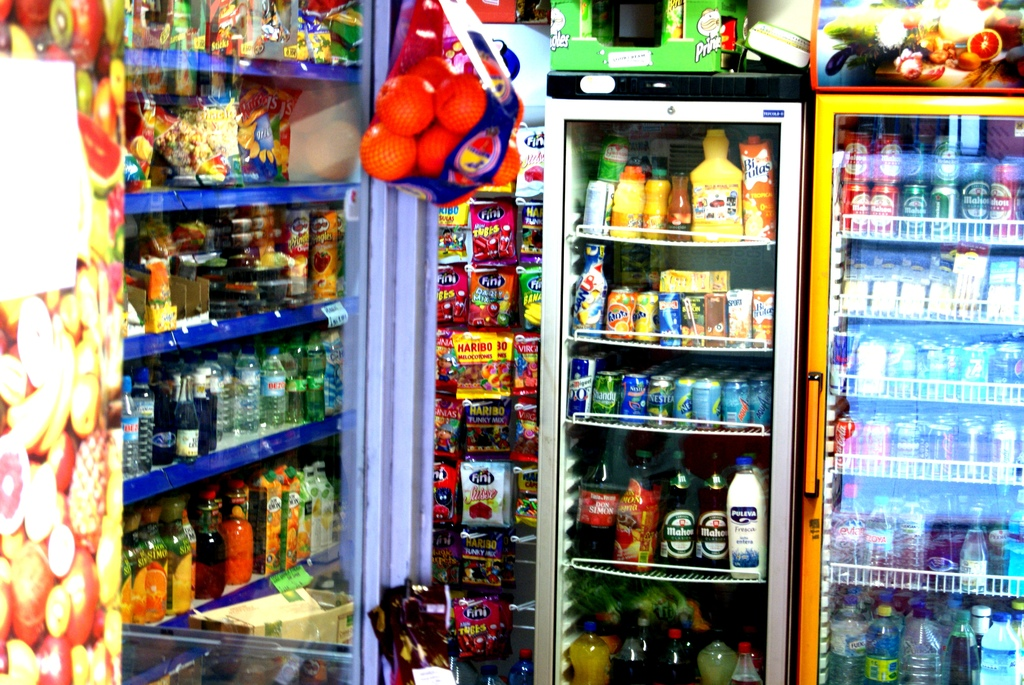handle: (802, 370, 824, 496)
refrigerator door: (557, 105, 776, 670), (819, 108, 1024, 685)
